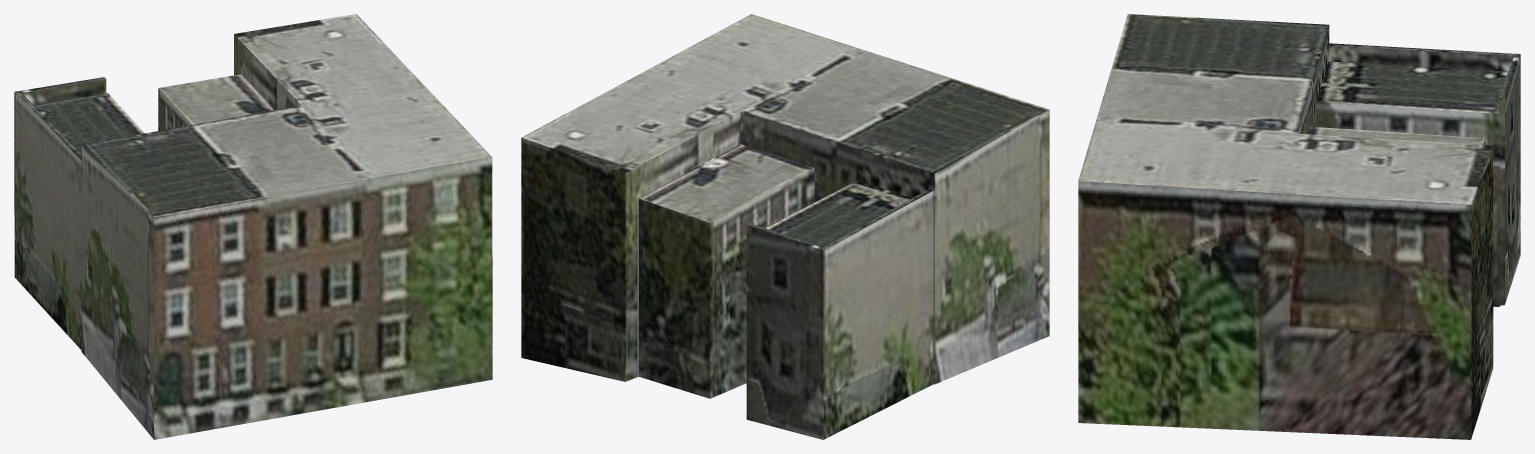
Rendered from Buildings_subset_84.dae.
3 renders of one model, left to right at view 1: azimuth 30°, elevation 25°; view 2: azimuth 150°, elevation 25°; view 3: azimuth 270°, elevation 25°, orthographic. The views are drawn at different scales.
Visible parts, largest first — view 1: Buildings_subset_84.dae (×7); view 2: Buildings_subset_84.dae (×9); view 3: Buildings_subset_84.dae (×8).
Boxes of the visible parts, <box> form: Buildings_subset_84.dae (×7): <box>14,14,492,439</box>; Buildings_subset_84.dae (×9): <box>521,14,1049,439</box>; Buildings_subset_84.dae (×8): <box>1078,14,1520,439</box>.
Bounding box in the file's own units: 61.63 × 60.31 × 36.34.
1 material, 1 textured.
